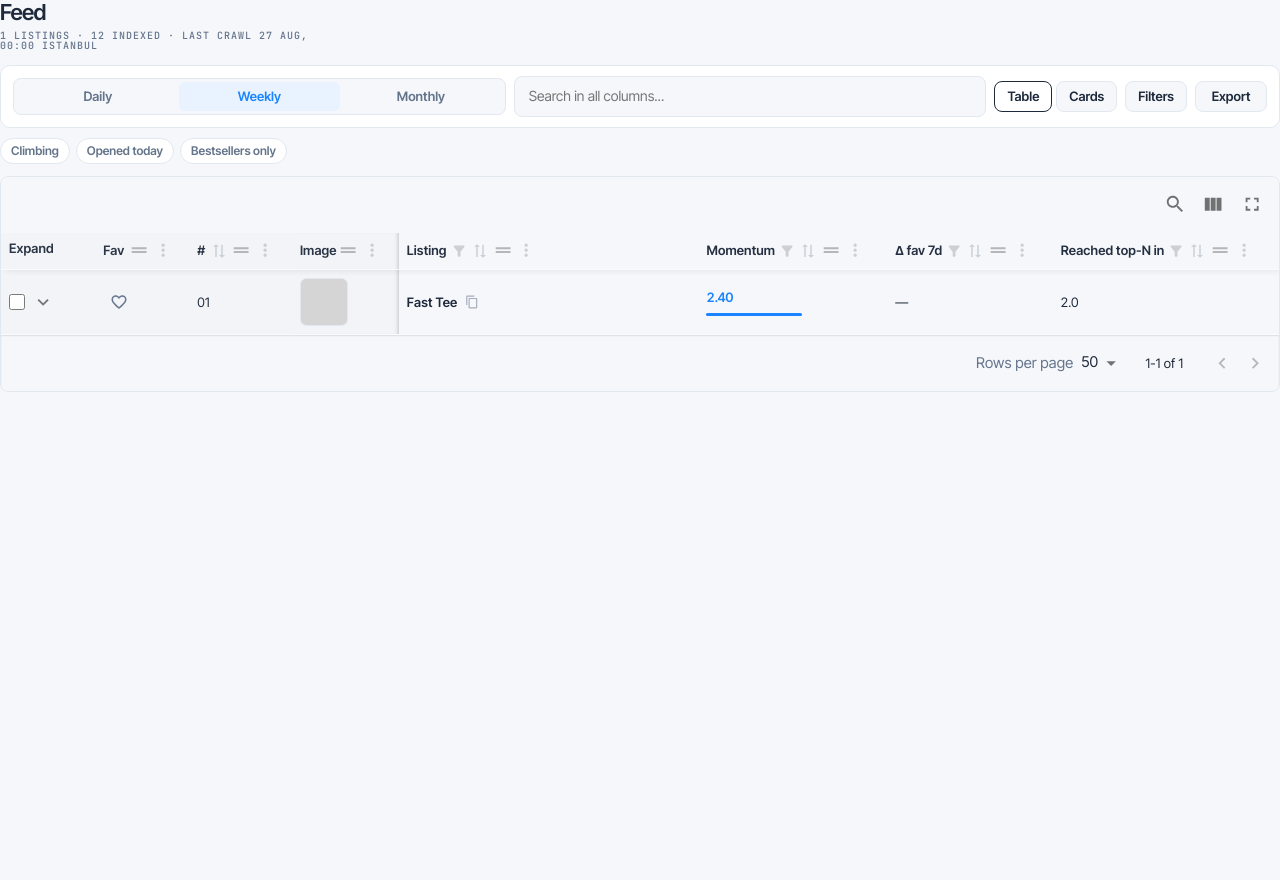
it: FeedPage › expands a listing row when clicking anywhere on the row
The image size is (1280, 880).
Expected: the link "Fast Tee" is shown, [407, 294, 457, 310]
Step 1. Click the text "01" → x=241, y=303, box [189, 270, 292, 335]
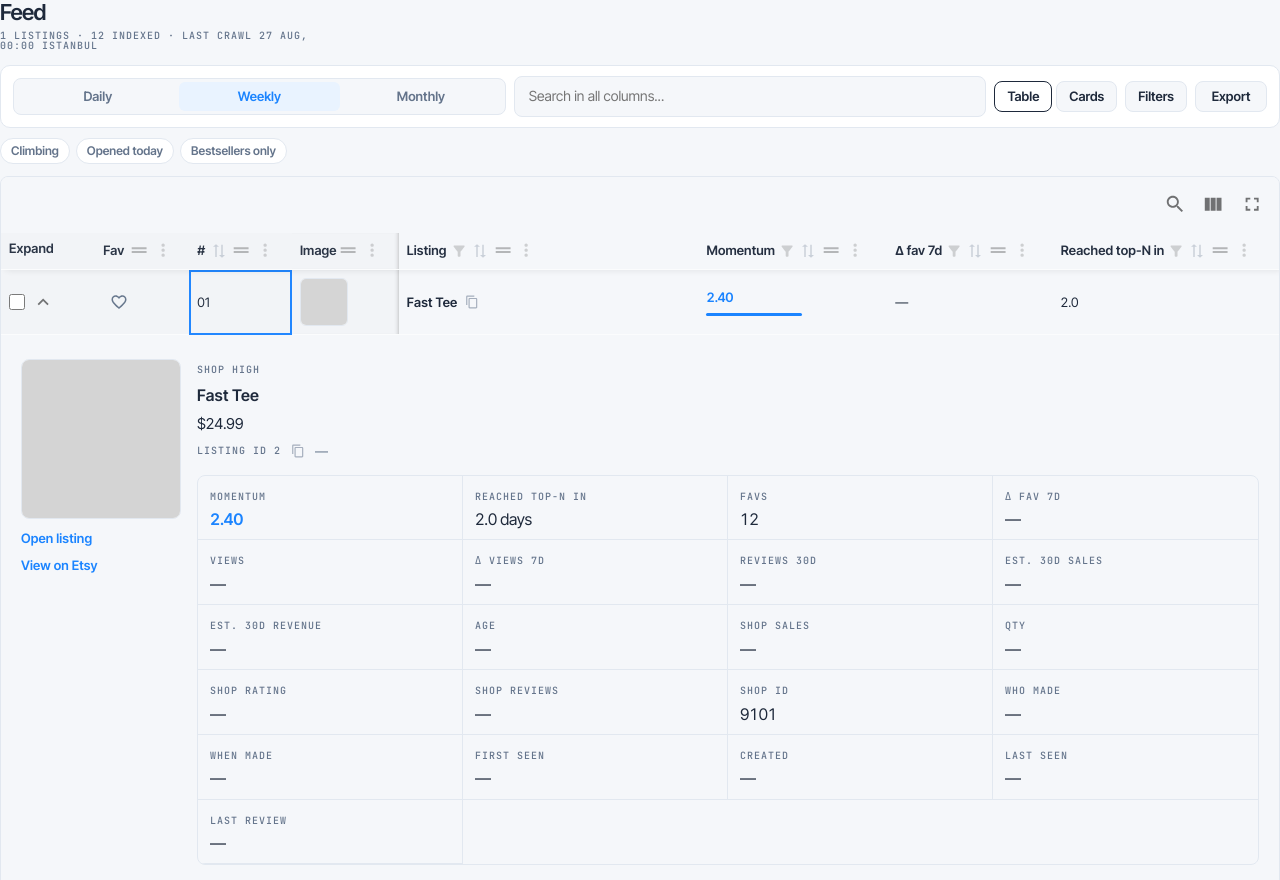
Now the link "View on Etsy" is shown, box [21, 557, 98, 573]
